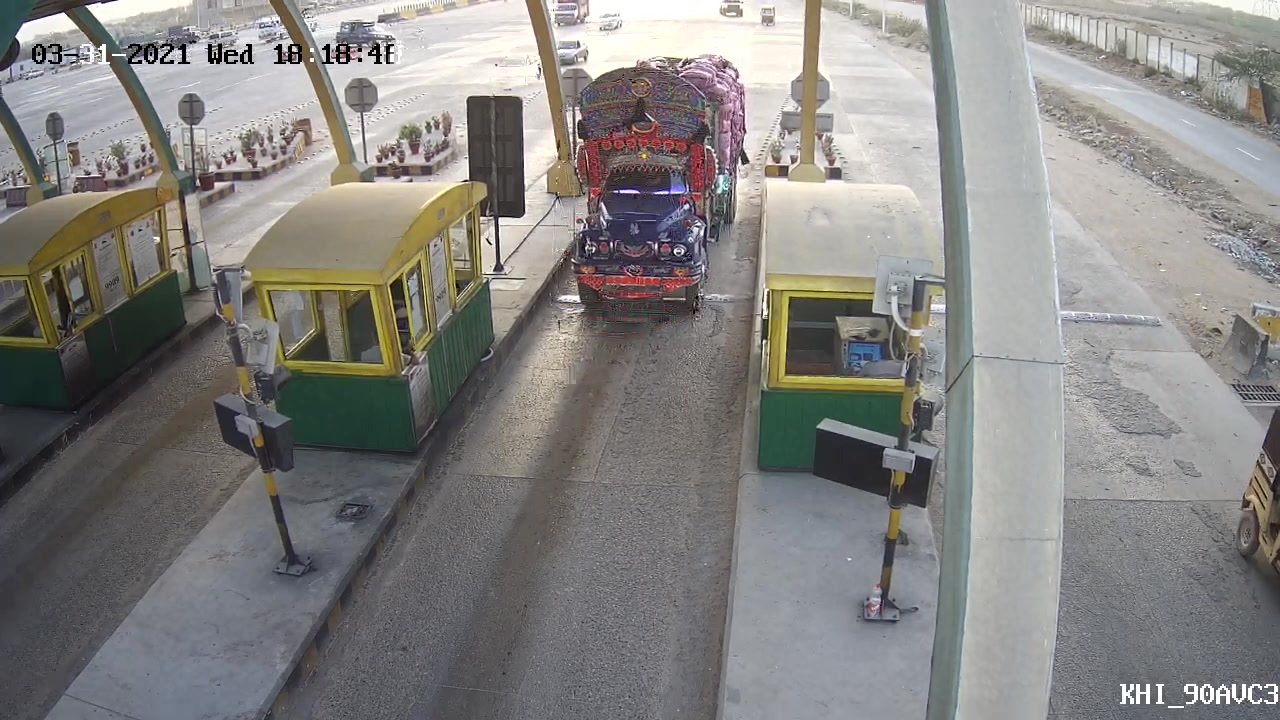F5: (561, 46, 744, 319)
